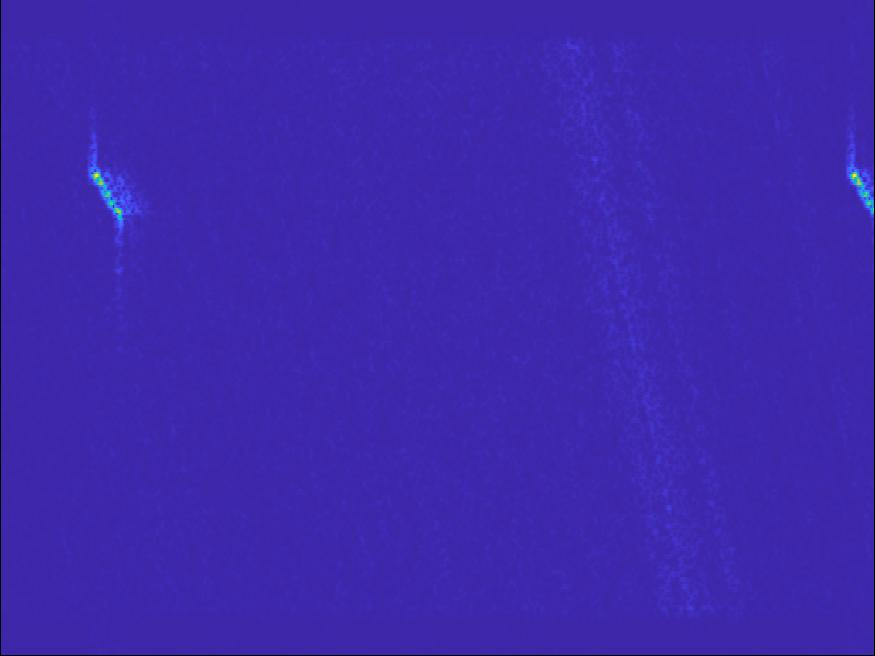Interference: (88, 102, 266, 231), (415, 291, 643, 366), (591, 615, 716, 656), (496, 135, 613, 173)
